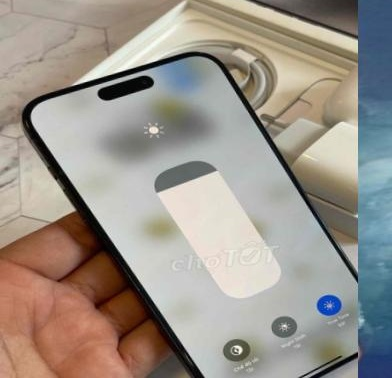scratch: (358, 249, 392, 353)
